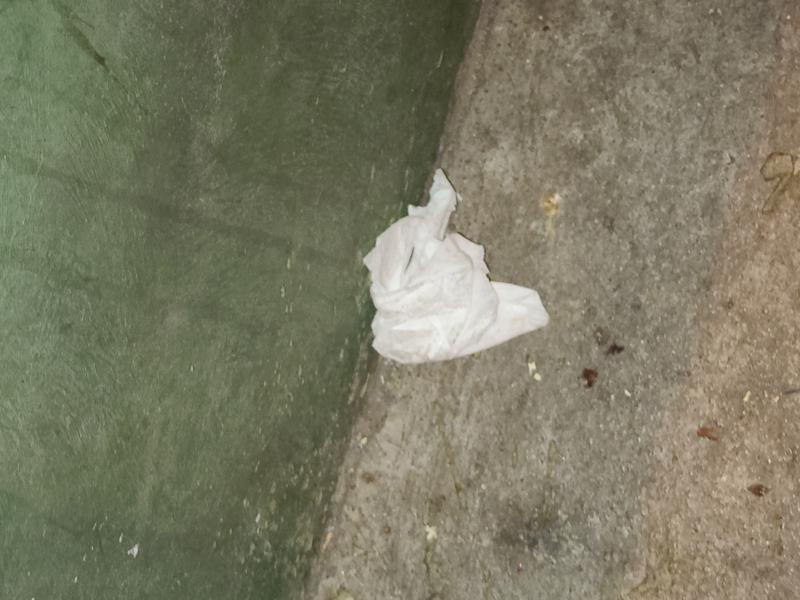papel: (360, 172, 550, 366)
